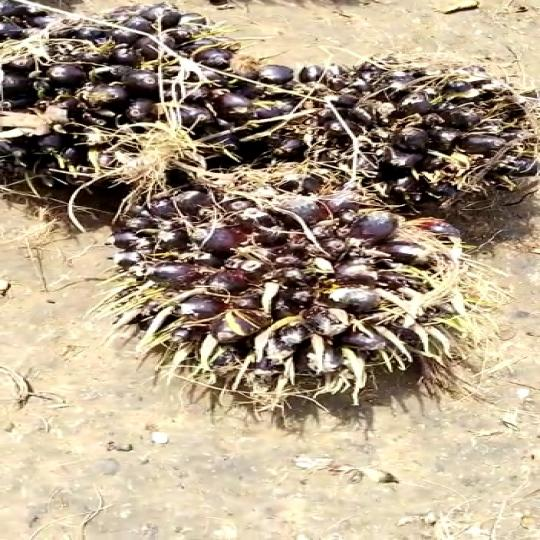mentah: (130, 164, 431, 425), (158, 60, 540, 223), (0, 2, 288, 203)
